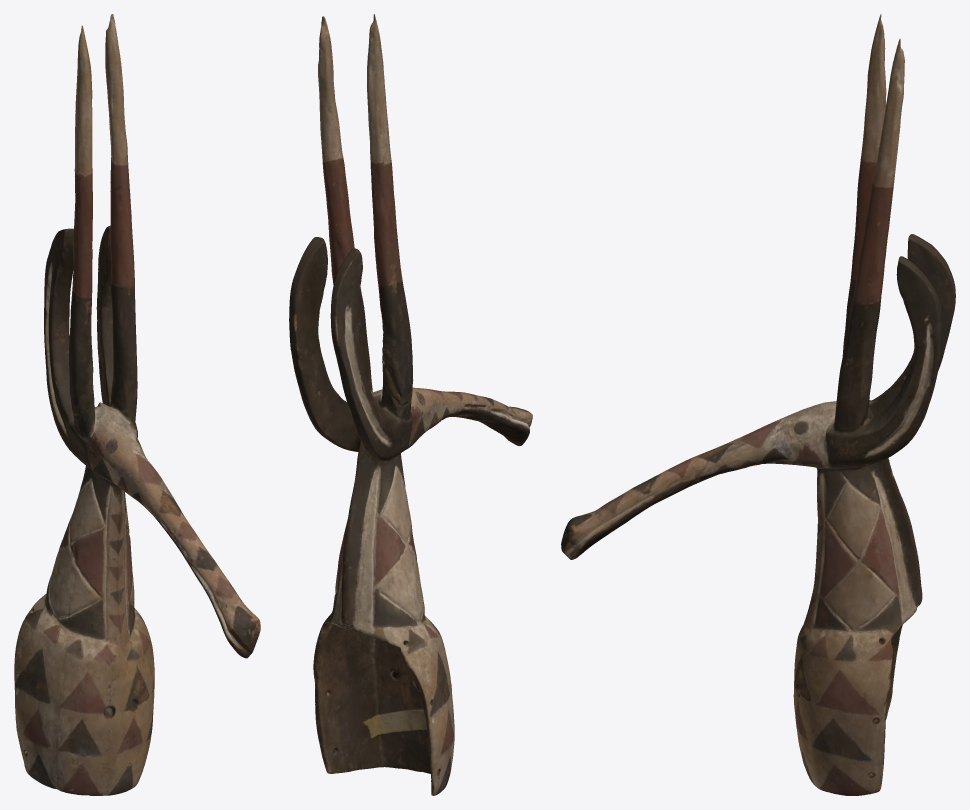
File: preview.glb
3 views of the same model, side by side, from view 1: azimuth 30°, elevation 25°; view 2: azimuth 150°, elevation 25°; view 3: azimuth 270°, elevation 25° (orthographic). The views are drawn at different scales.
Visible parts, largest first — view 1: Object_2; view 2: Object_2; view 3: Object_2.
Boxes of the visible parts, <box> form: Object_2: <box>14,14,260,795</box>; Object_2: <box>289,14,532,795</box>; Object_2: <box>561,14,955,795</box>.
Bounding box in the file's own units: 0.1738 × 1.03 × 0.4832.
1 material, 1 textured.
